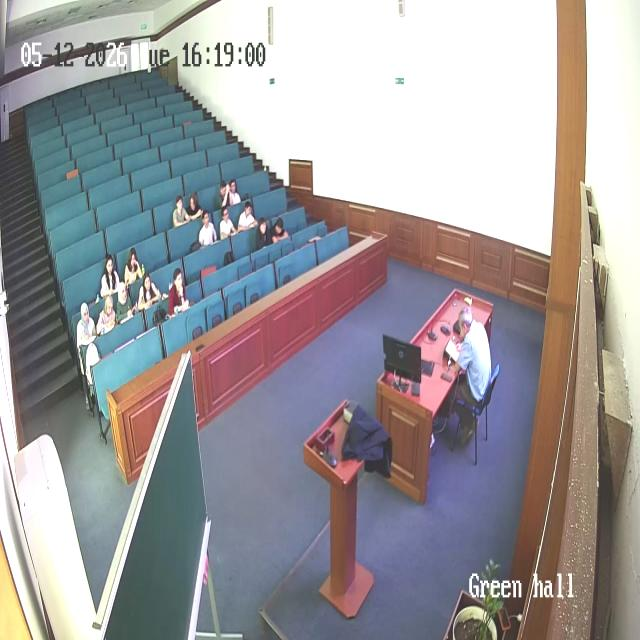person: (445, 304, 493, 447), (76, 300, 98, 354), (136, 269, 162, 314), (167, 267, 190, 317), (98, 253, 120, 299), (96, 292, 118, 337), (196, 208, 218, 248), (124, 245, 144, 288), (114, 281, 134, 323), (218, 204, 237, 240), (238, 199, 258, 232), (184, 191, 204, 223), (172, 195, 190, 228), (256, 215, 272, 250), (270, 216, 290, 244), (215, 180, 231, 210), (226, 178, 242, 206)
